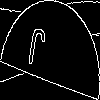J: (25, 25, 47, 77)
